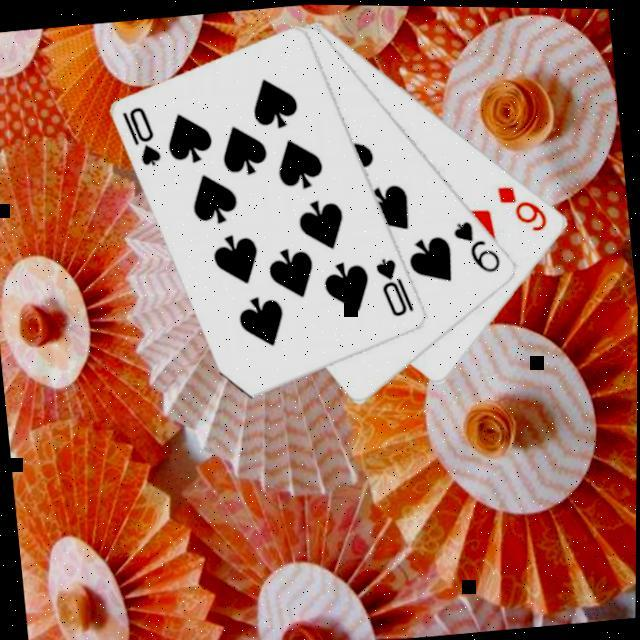10S: (116, 102, 164, 173), (370, 252, 417, 323)
6D: (492, 179, 550, 239)
9S: (447, 213, 503, 280)
